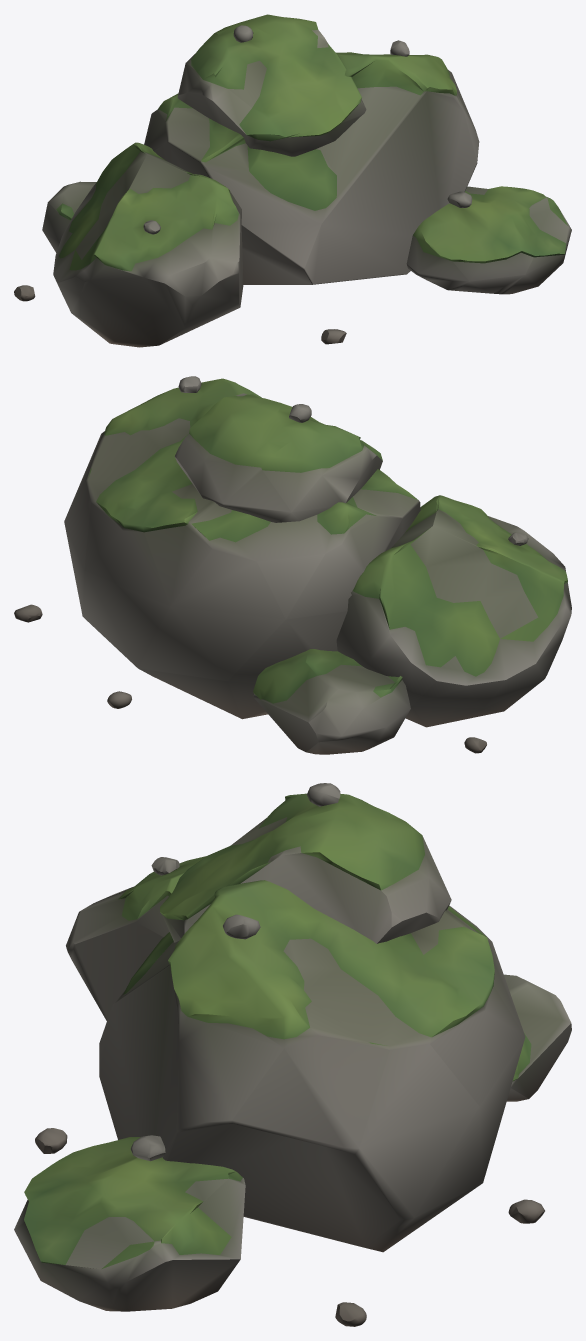
The model's file is outcrop.glb.
3 renders of one model, top to bottom at view 1: azimuth 30°, elevation 25°; view 2: azimuth 150°, elevation 25°; view 3: azimuth 270°, elevation 25°, orthographic. The views are drawn at different scales.
Visible parts, largest first — view 1: Outcrop; view 2: Outcrop; view 3: Outcrop, Loose_2, Loose_1, Loose_6.
Boxes of the visible parts, x1,y1,x2,y2 form: Outcrop: (42,14,571,347); Outcrop: (64,378,571,754); Outcrop: (14,793,571,1311); Loose_2: (130,1135,165,1161); Loose_1: (223,914,260,939); Loose_6: (508,1199,544,1223).
Bounding box in the file's own units: 2.57 × 1.48 × 1.83.
